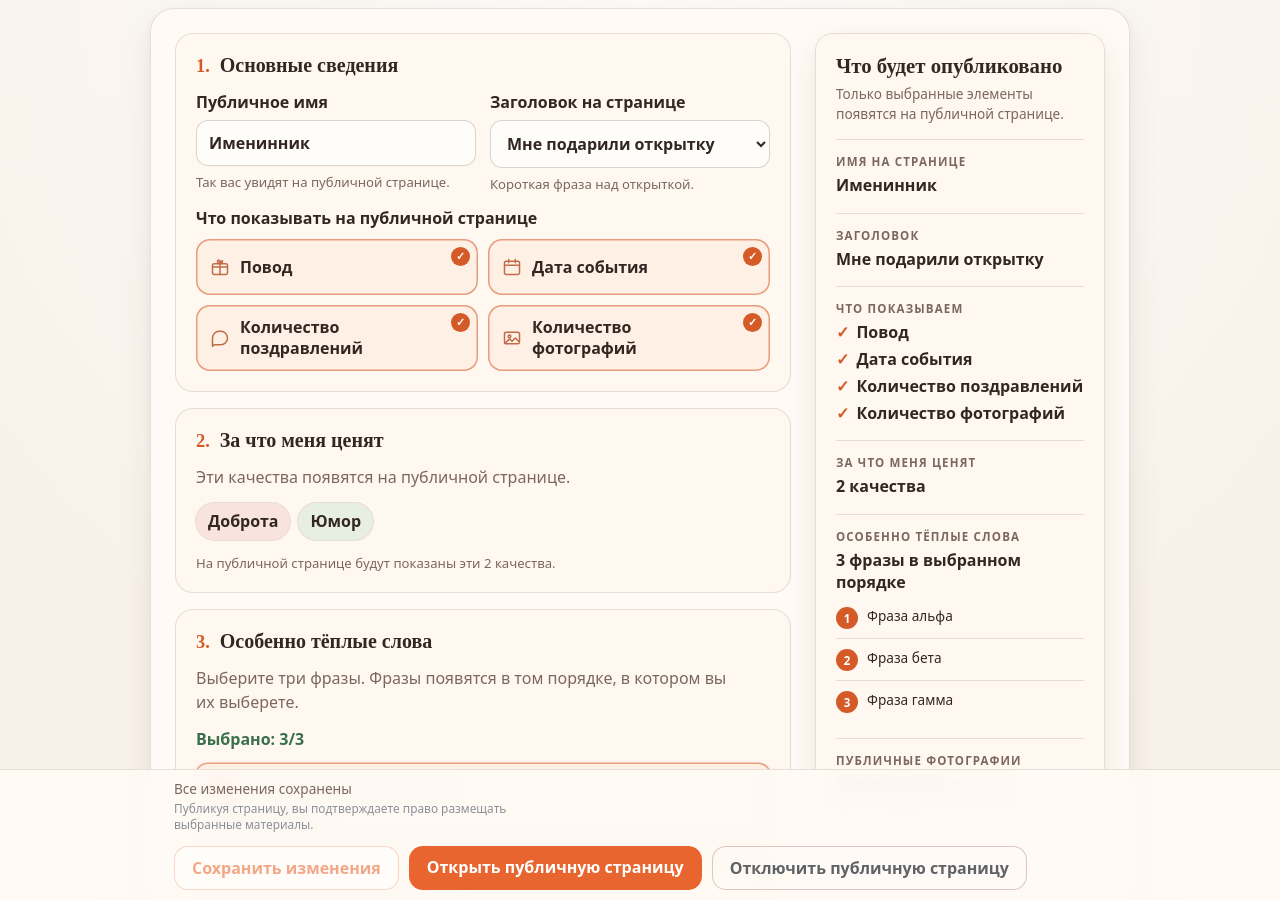
Test case: PublicSharePanel: отключение публичной страницы › открывает диалог, отмена закрывает его без вызова revoke
Click the button "Отключить публичную страницу".
click(869, 868)  # box 712,846 -> 1027,890
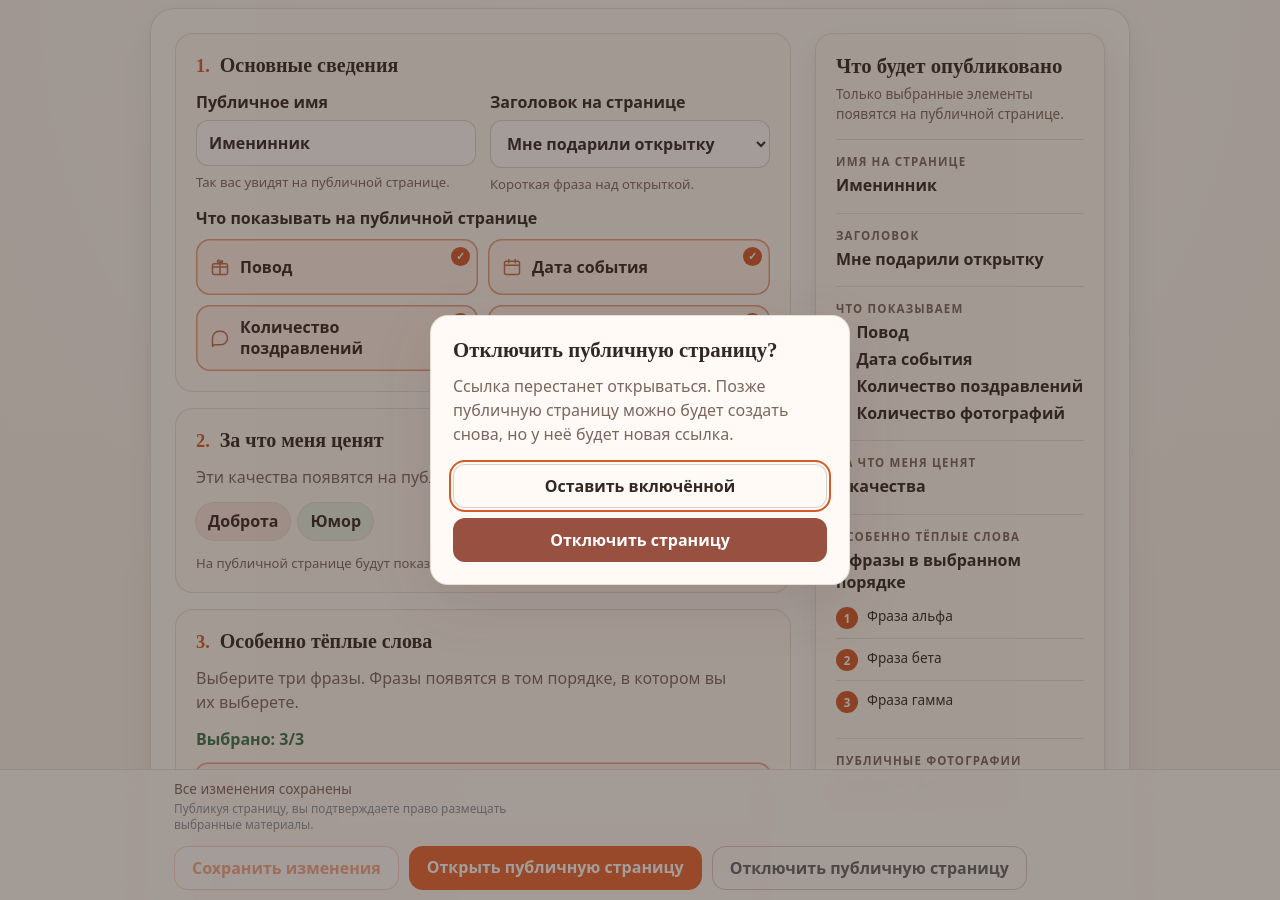
expect the dialog is shown: met, box 430,315 -> 850,585
expect the heading "Отключить публичную страницу?" is shown: met, box 453,338 -> 827,362
Click the button "Оставить включённой".
click(640, 486)  # box 453,464 -> 827,508
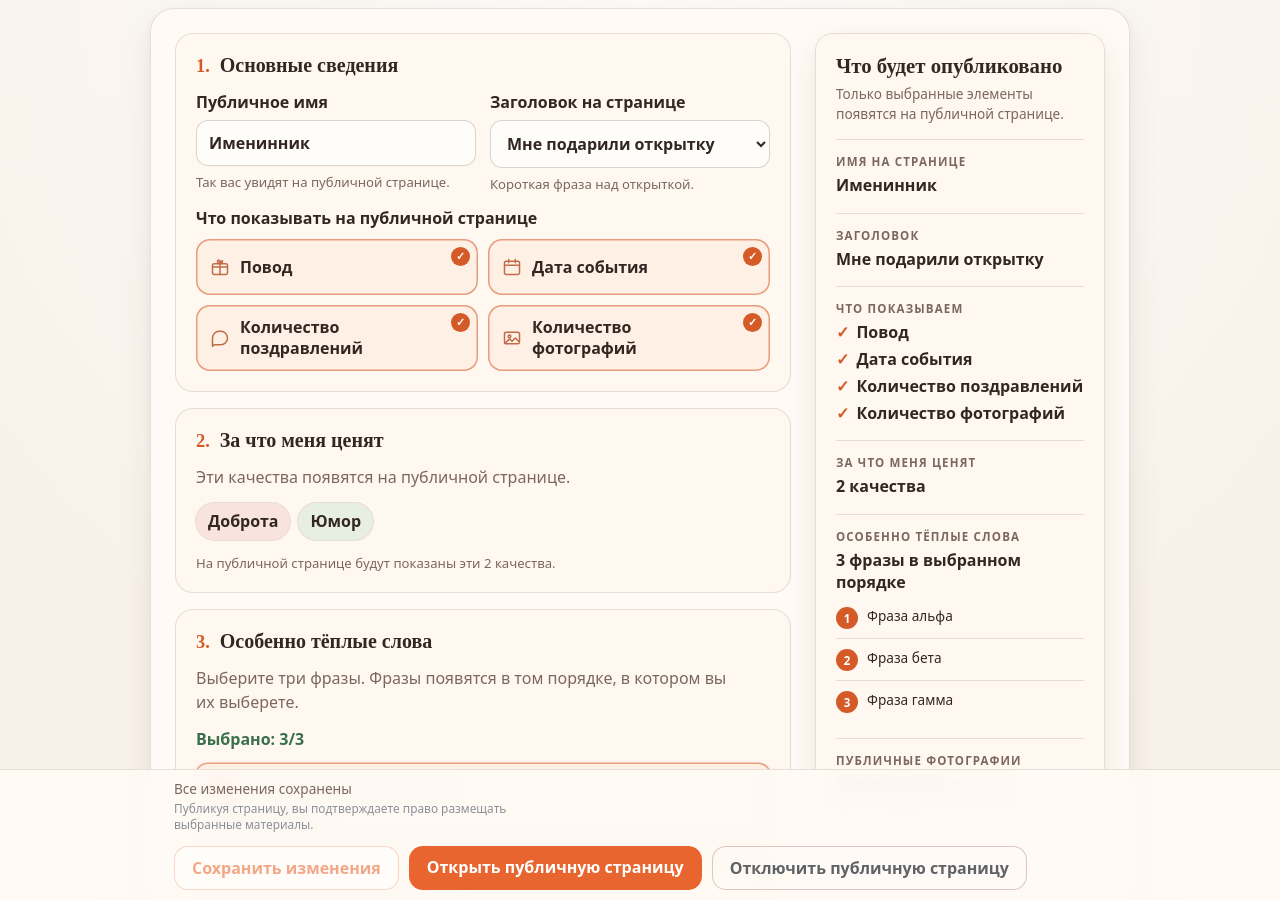
expect the dialog is gone: met
